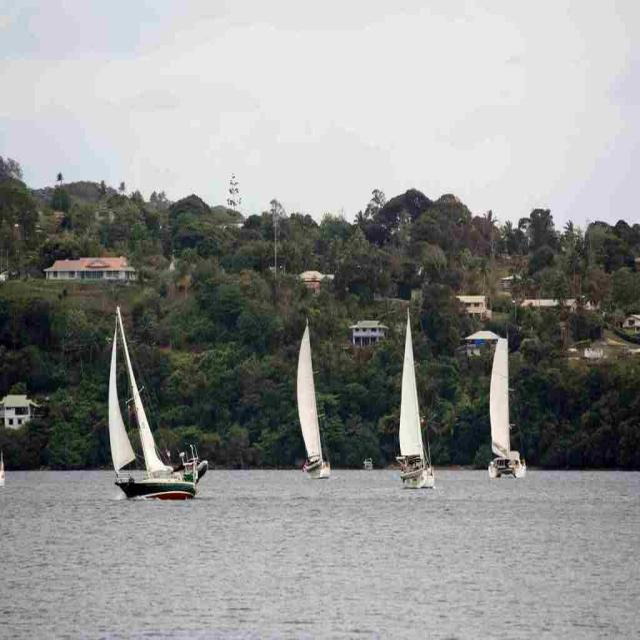Boat: (104, 312, 210, 522), (394, 306, 438, 494), (487, 334, 525, 481), (297, 315, 330, 482), (361, 457, 373, 472), (2, 453, 6, 487)
